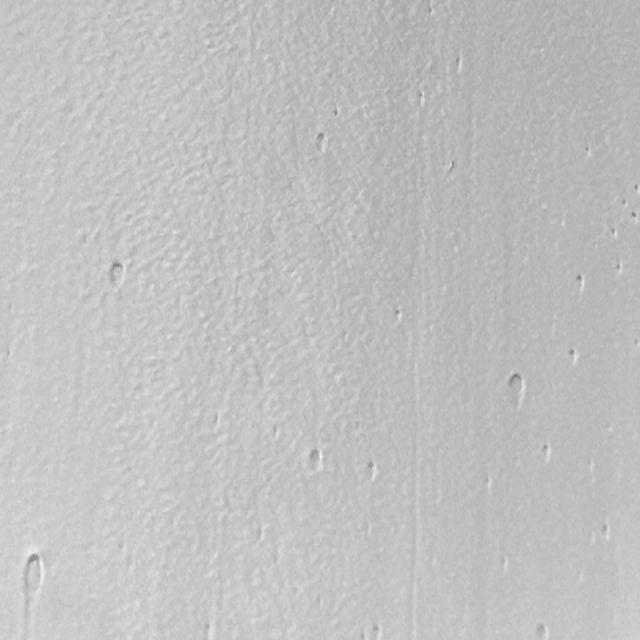pin holes: (19, 551, 49, 603), (502, 370, 527, 408), (106, 258, 129, 290), (304, 447, 324, 474), (361, 457, 380, 482), (312, 131, 330, 154), (480, 472, 497, 494), (534, 621, 553, 640), (568, 345, 582, 367), (392, 305, 407, 325), (539, 442, 553, 463), (575, 272, 588, 294), (200, 621, 215, 640), (598, 522, 612, 542), (415, 88, 428, 108), (369, 622, 383, 640), (451, 55, 463, 73), (609, 226, 620, 242), (583, 143, 594, 157), (614, 262, 624, 277), (620, 196, 630, 208), (631, 182, 639, 195), (630, 208, 637, 220), (632, 336, 638, 350)
